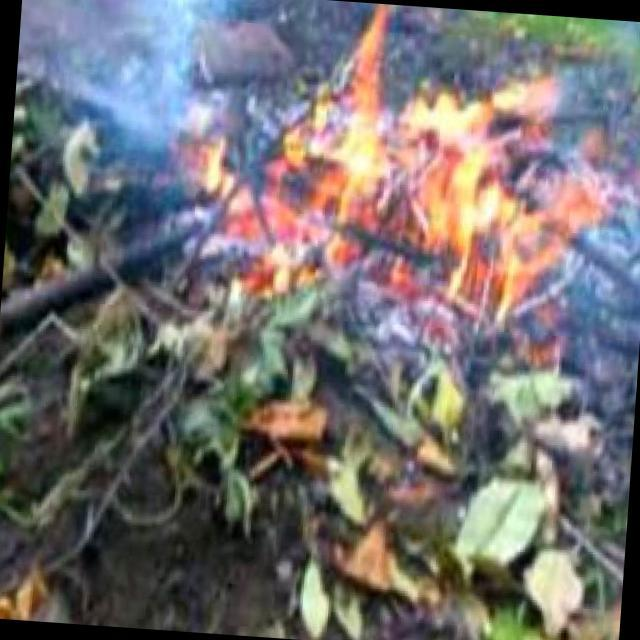Fire: (208, 20, 609, 304)
